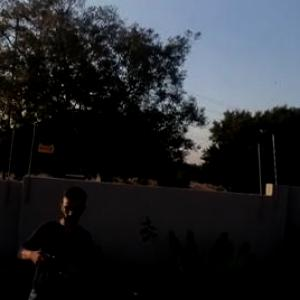follow: (13, 178, 100, 299)
